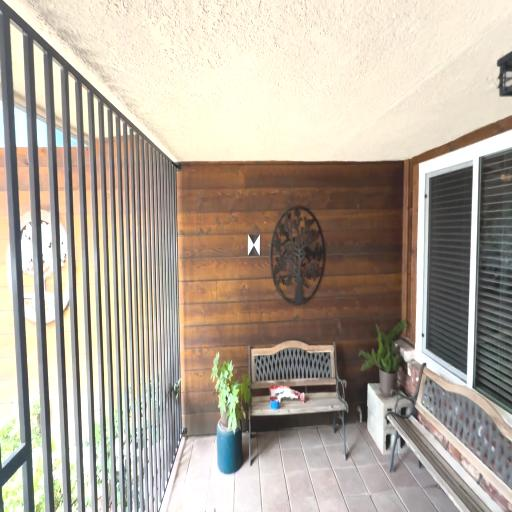target: (248, 234, 259, 256)
